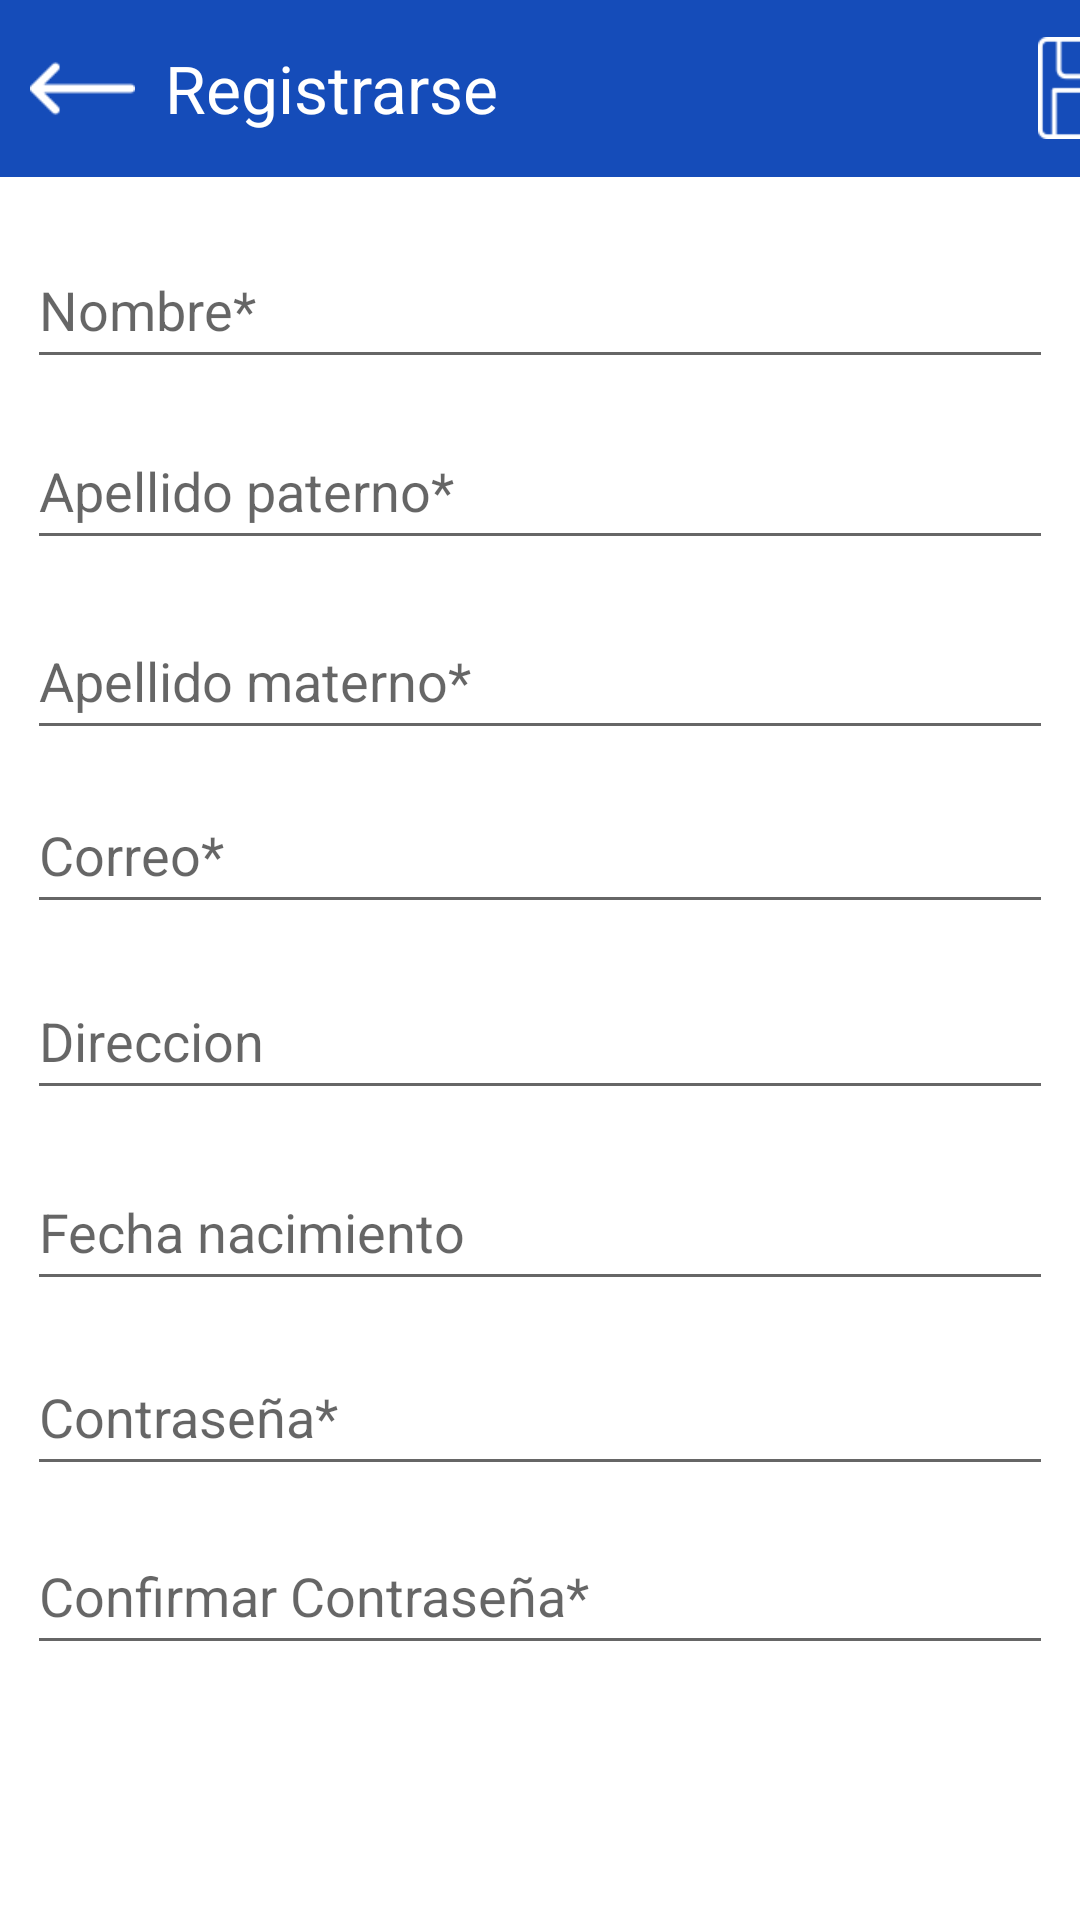

Icons on this 1080px×1920px Android screen, each with the point to tap as point (x, y):
flecha: point (82, 88)
